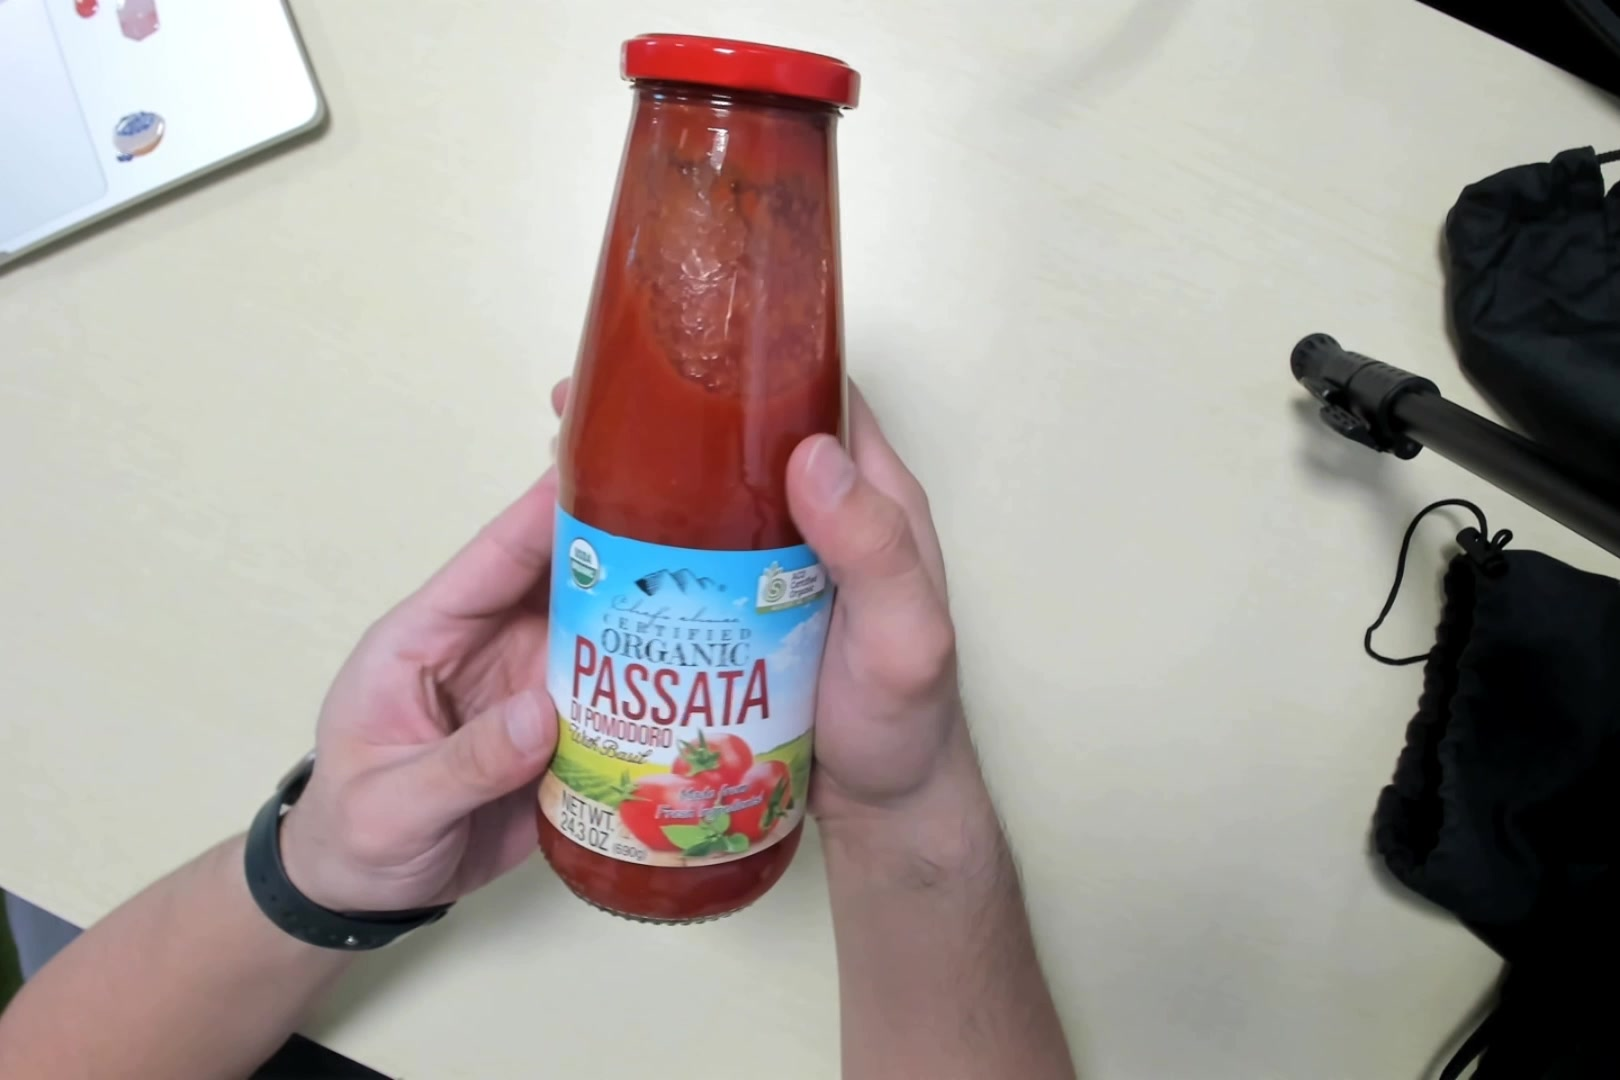PastaSauce_600-699g_NonHalal_NonHealthy: (534, 37, 859, 931)
